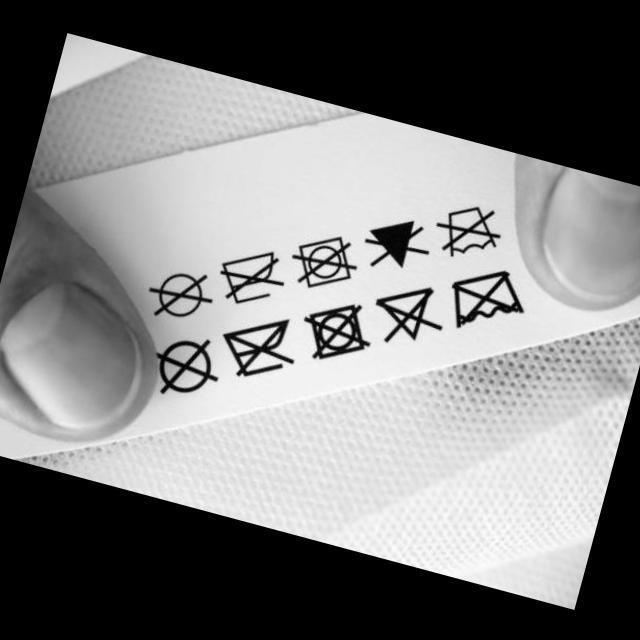DN_bleach: (360, 270, 456, 359), (352, 204, 437, 282)
DN_dry_clean: (136, 320, 229, 410), (138, 258, 222, 330)
DN_iron: (208, 297, 307, 392), (207, 234, 294, 315)
DN_tumble_dry: (289, 286, 381, 372), (279, 222, 366, 302)
DN_wash: (434, 252, 540, 346), (424, 191, 514, 270)
